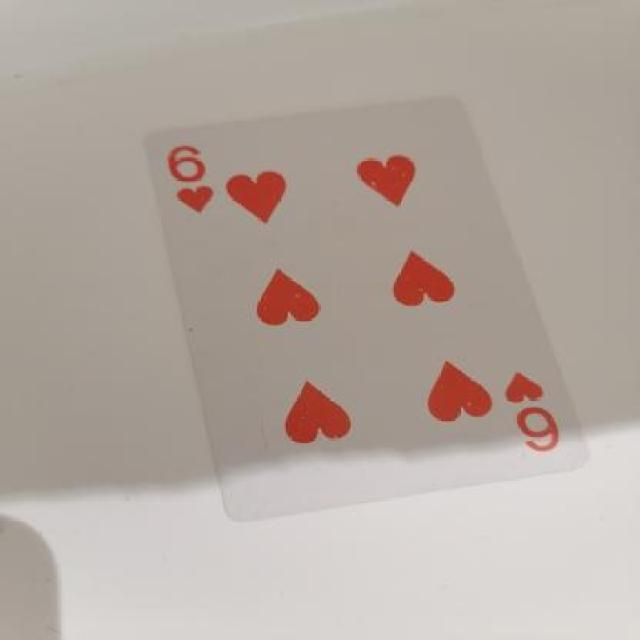6H: (498, 356, 580, 461), (158, 136, 224, 235)
